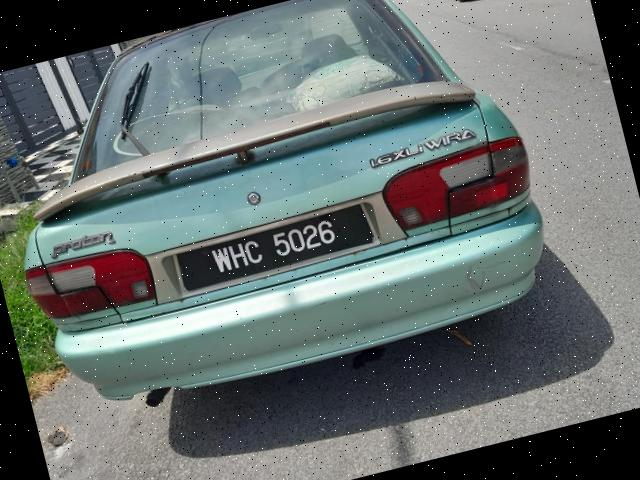License_Plate: (175, 208, 368, 288)
car: (1, 1, 572, 438)
